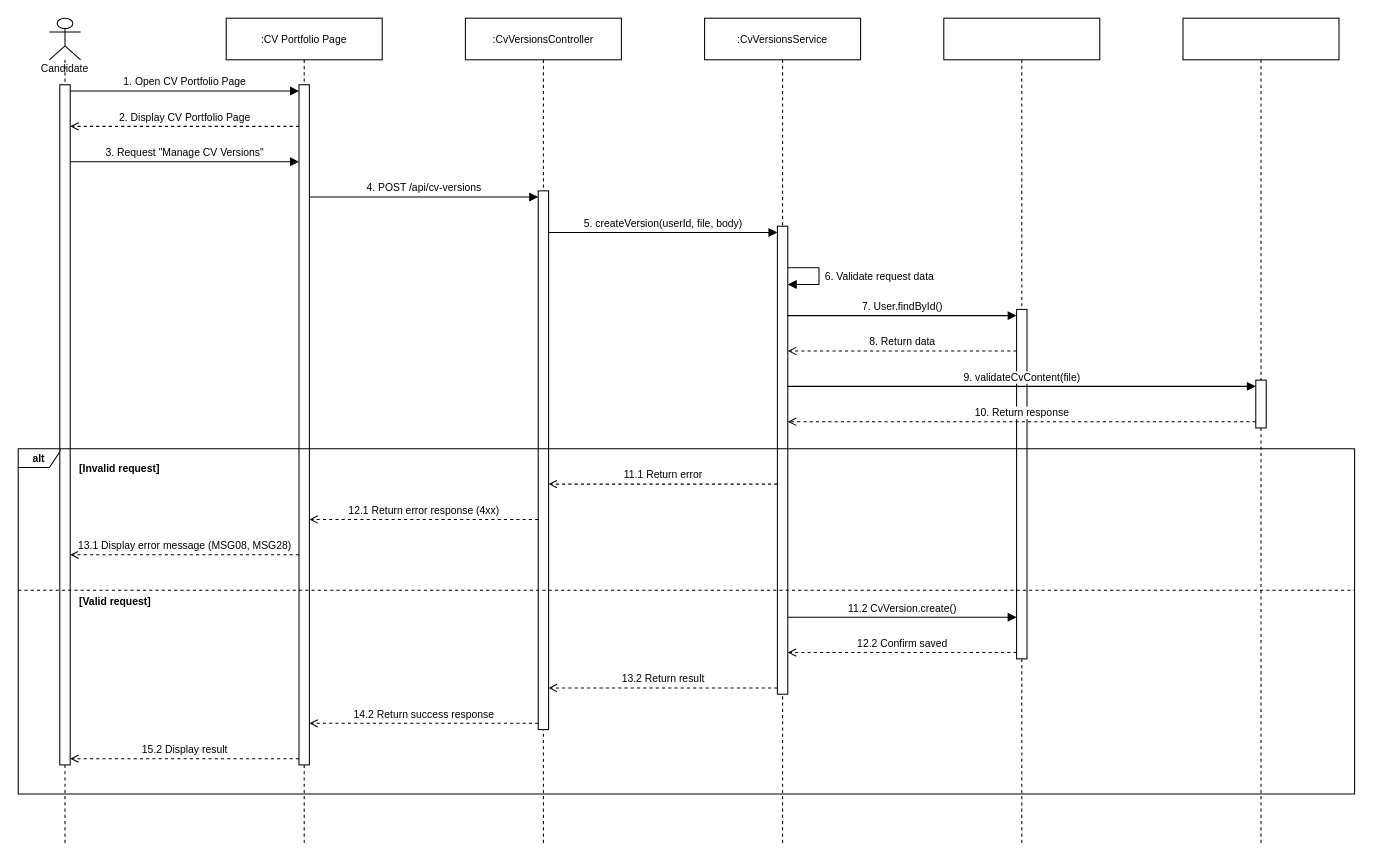
Some shapes in this 1374 by 864 pixel diagram are drawn without their labels. The shapes that lost their labels are listed below. From the top down, each one's centre as x and y in pixels, then its label:
At (1021,431): ":Database".
At (1260,431): ":CV Analyzer (FastAPI)".
